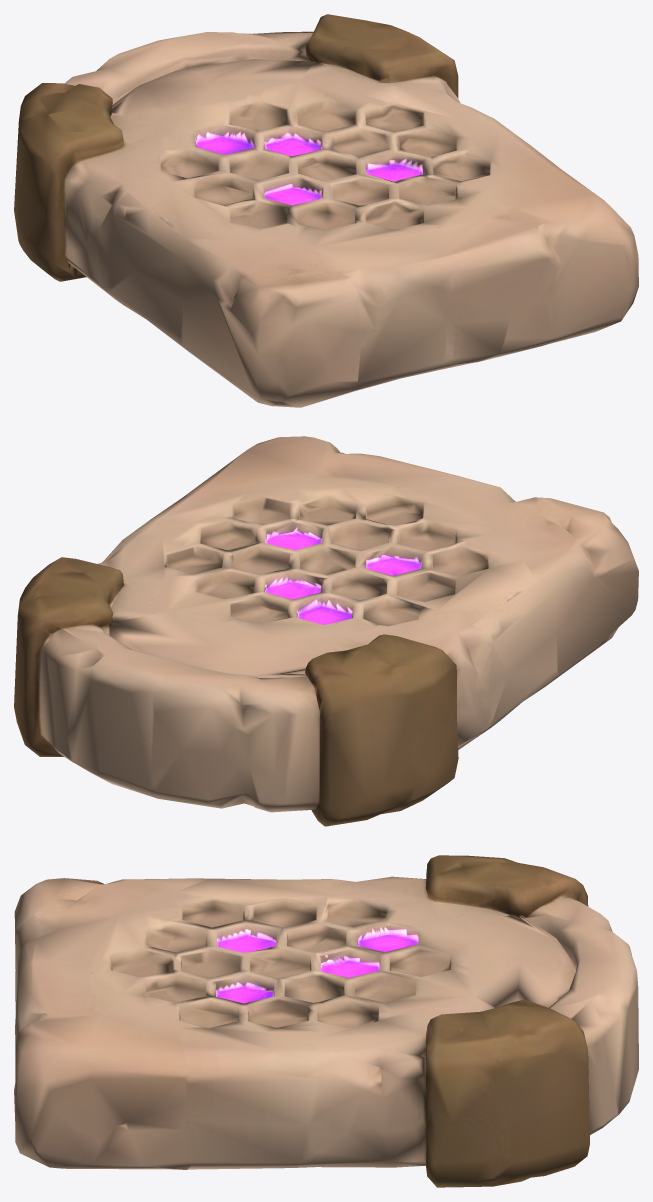
Rendered from loot_tablet-C0Tw-fX1.glb.
3 renders of one model, top to bottom at view 1: azimuth 30°, elevation 25°; view 2: azimuth 150°, elevation 25°; view 3: azimuth 270°, elevation 25°, orthographic. The views are drawn at different scales.
Visible parts, largest first — view 1: tripo_node_dbaf5171-0483-476f-9004-c6c56dbcb403; view 2: tripo_node_dbaf5171-0483-476f-9004-c6c56dbcb403; view 3: tripo_node_dbaf5171-0483-476f-9004-c6c56dbcb403.
Part boxes in pixels (x1=…): tripo_node_dbaf5171-0483-476f-9004-c6c56dbcb403: x1=14, y1=14, x2=638, y2=407; tripo_node_dbaf5171-0483-476f-9004-c6c56dbcb403: x1=14, y1=436, x2=638, y2=826; tripo_node_dbaf5171-0483-476f-9004-c6c56dbcb403: x1=14, y1=855, x2=638, y2=1187.
Bounding box in the file's own units: 0.785 × 0.2704 × 1.
1 material, 1 textured.
